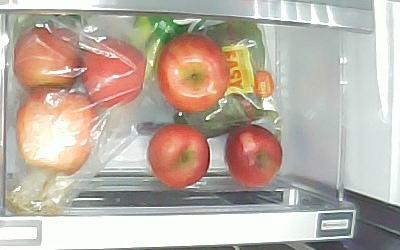apple: (157, 33, 230, 112), (147, 124, 211, 189), (225, 125, 282, 185)
apple_vinyl: (16, 88, 96, 175), (79, 38, 148, 109), (12, 26, 80, 90)
